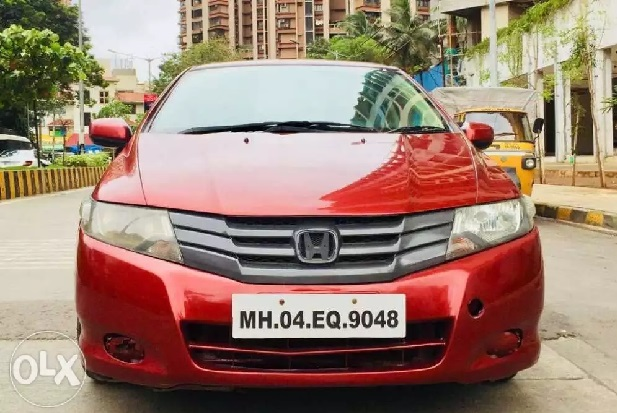licenseplate: (231, 291, 408, 339)
